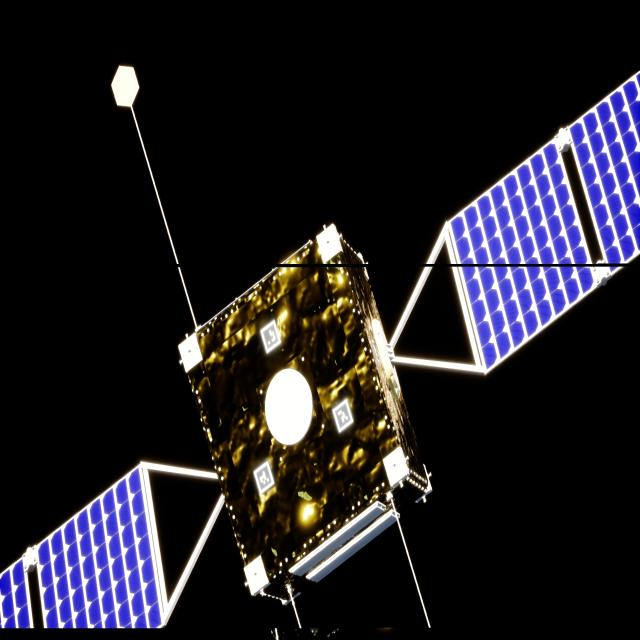medium_debris: (0, 70, 640, 633)
